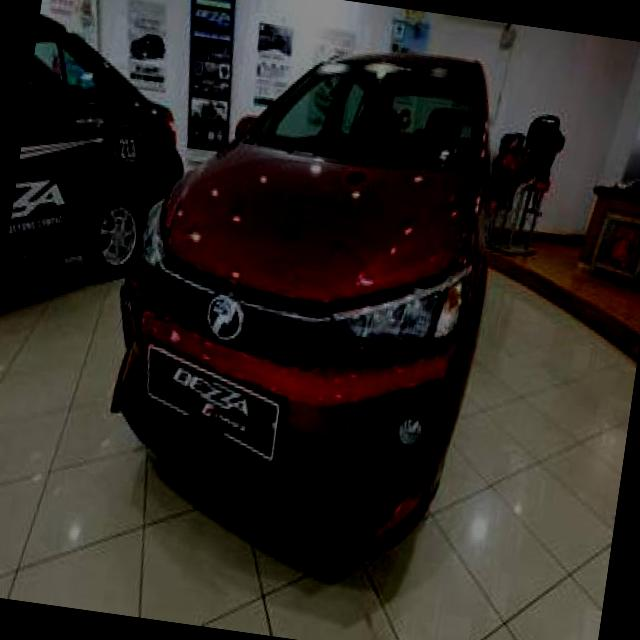PeroduaBezza: (86, 12, 522, 572)
